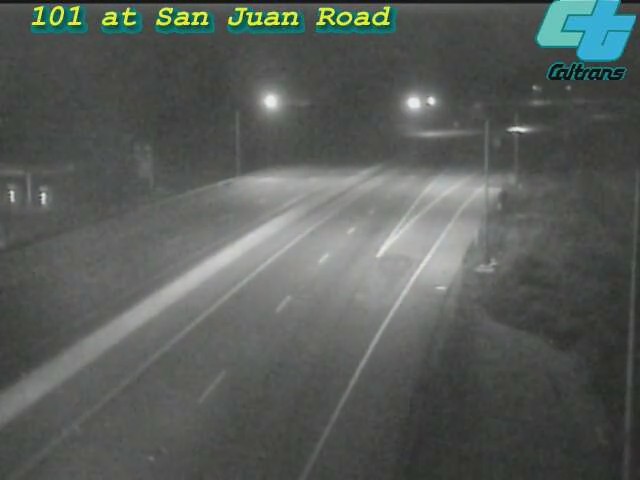vehicle: (488, 103, 538, 153)
